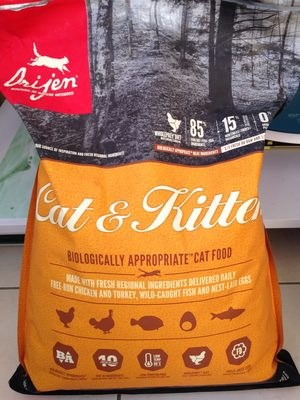Orijen Cat & Kitten: (15, 20, 285, 380)
